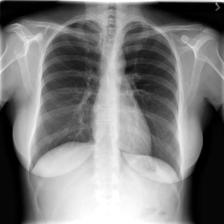normal: (29, 12, 183, 180)
